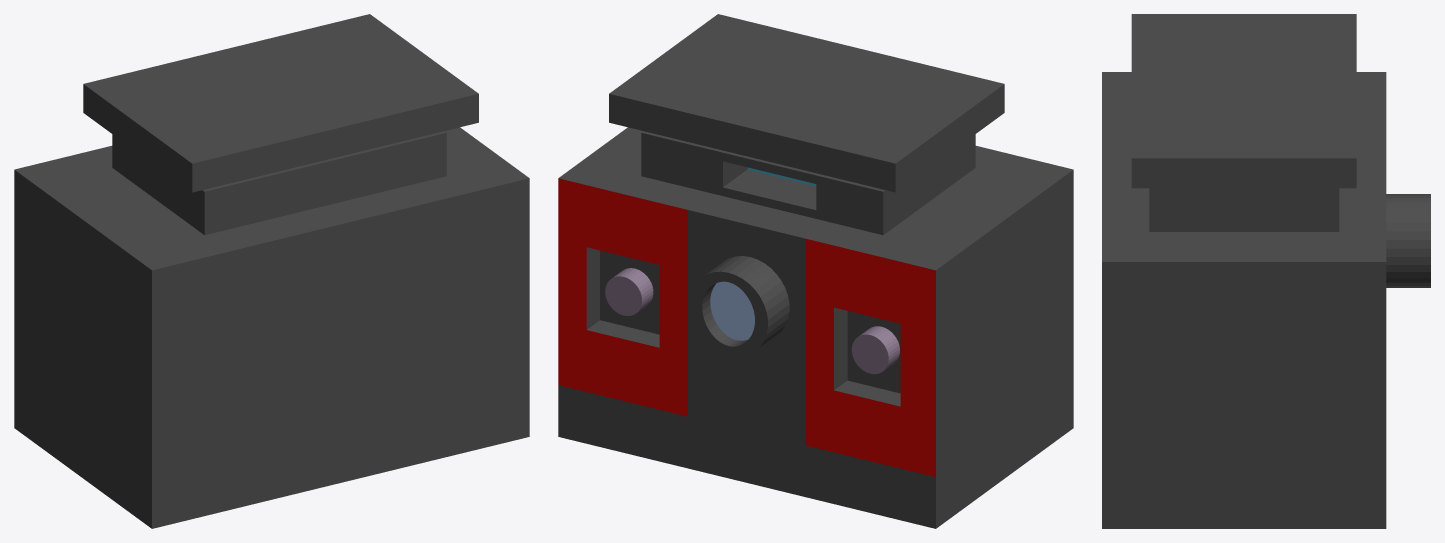
File: laserbox.fbx
The picture shows the model from 3 angles, left to right: view 1: azimuth 30°, elevation 25°; view 2: azimuth 150°, elevation 25°; view 3: azimuth 270°, elevation 25°; orthographic projection. The views are drawn at different scales.
Visible parts, largest first — view 1: Cube.016; view 2: Cube.016; view 3: Cube.016.
Boxes of the visible parts, box(x1,y1,x2,y2) form: Cube.016: box(14, 14, 529, 528); Cube.016: box(558, 14, 1073, 528); Cube.016: box(1102, 14, 1430, 528).
Size of the model in its own units: 817 by 706 by 597.
